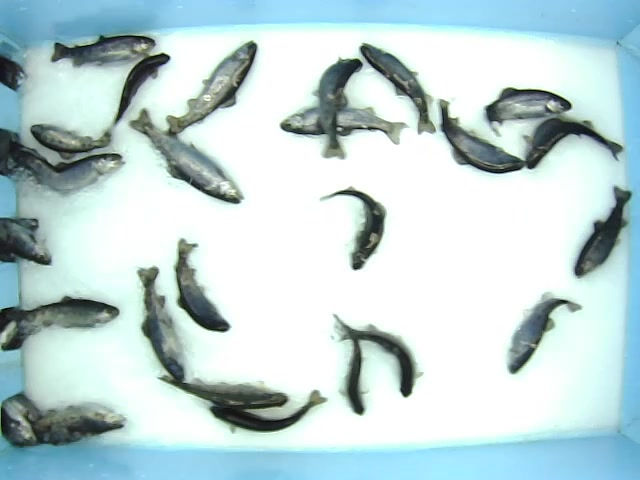fish: (127, 108, 246, 204), (166, 39, 257, 136), (330, 311, 424, 397), (357, 40, 437, 135), (438, 97, 528, 174), (505, 290, 583, 378), (167, 238, 233, 333), (572, 181, 633, 280), (319, 185, 388, 270), (137, 265, 185, 380), (312, 56, 364, 161), (279, 103, 412, 144), (105, 50, 173, 130), (522, 118, 624, 171), (208, 387, 328, 432), (155, 374, 289, 410), (482, 85, 572, 136), (29, 152, 126, 196), (49, 33, 159, 68), (28, 121, 112, 159), (339, 332, 369, 419)
